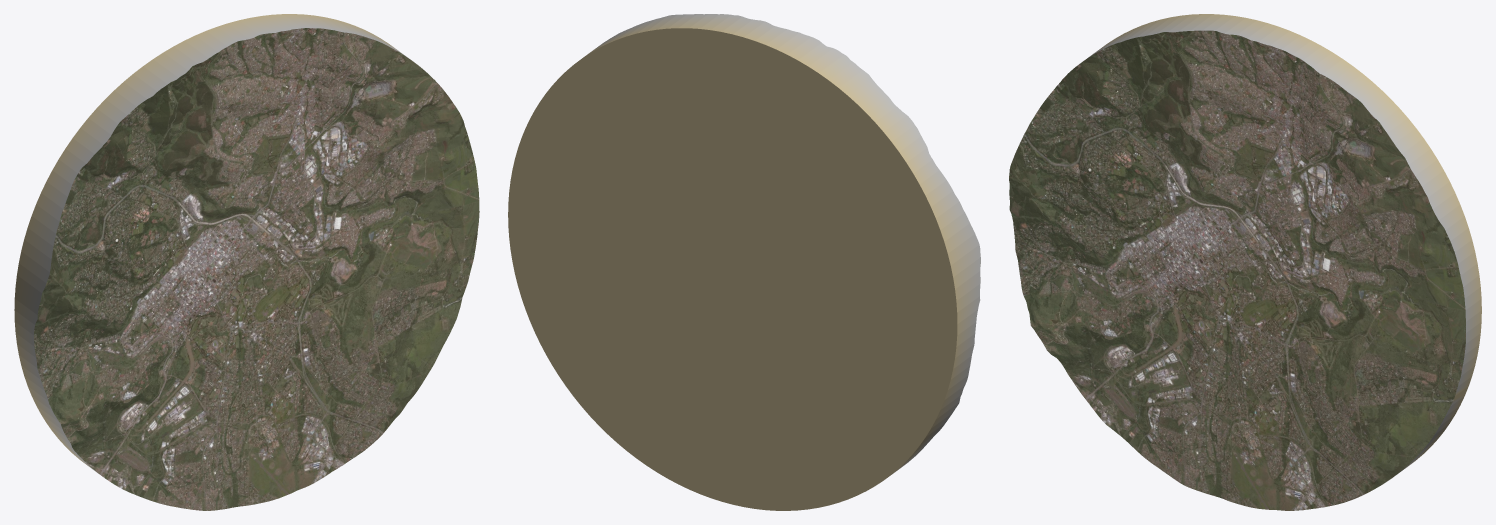
The model's file is pietermaritzburg.glb.
3 renders of one model, left to right at view 1: azimuth 30°, elevation 25°; view 2: azimuth 150°, elevation 25°; view 3: azimuth 330°, elevation 25°, orthographic.
Size of the model in its own units: 200 by 200 by 22.23.
Materials: 2 (1 with a texture image).
